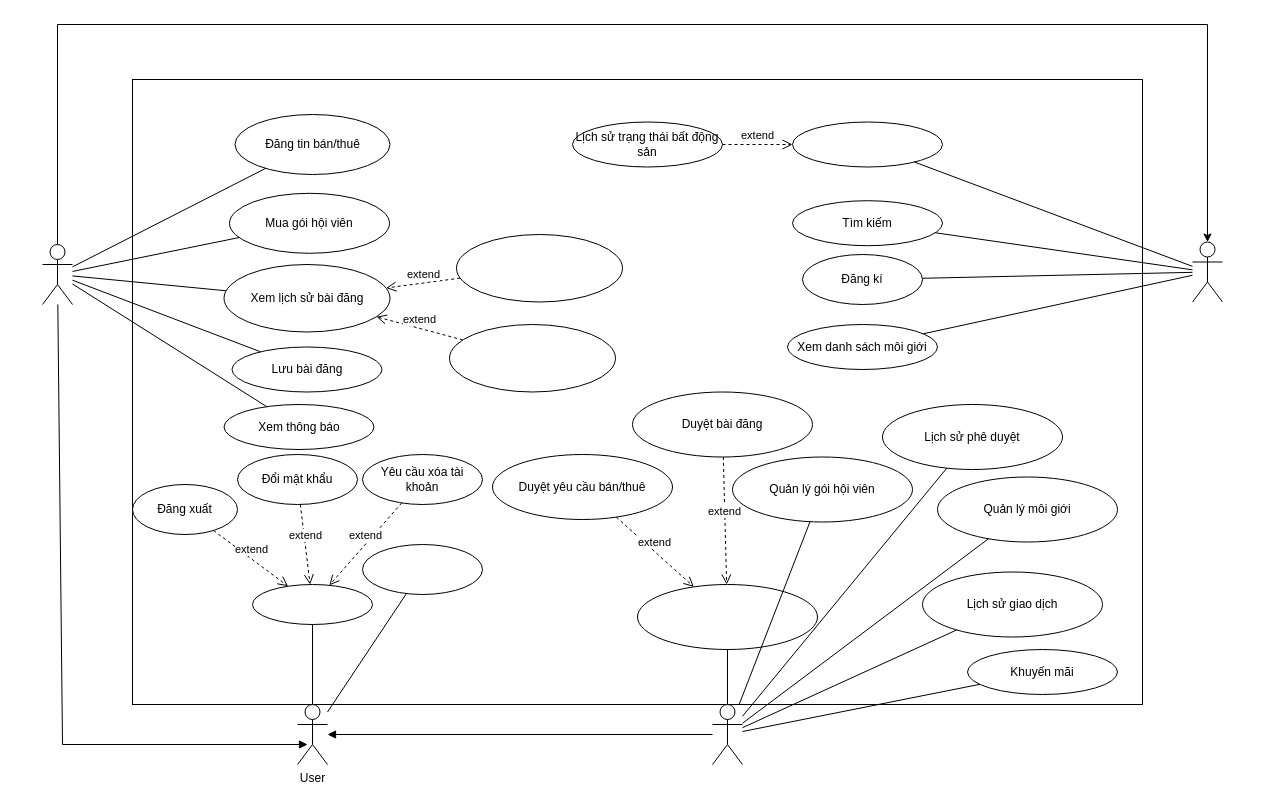
Some shapes in this 1268 by 803 pixel diagram are drawn without their labels. Each missing label, with the centre of its shape:
"Admin" goes at [727,734].
"Cập nhật thông tin bất động sản" goes at [539,268].
"Người mua,thuê" goes at [1207,271].
"Người môi giới" goes at [57,274].
"Quên mật khẩu" goes at [422,569].
"Tạo yêu cầu bán/thuê" goes at [532,358].
"Xem danh sách bài đăng" goes at [727,617].
"Xem thông tin bất động sản" goes at [867,144].
"Đăng nhập" goes at [312,604].
